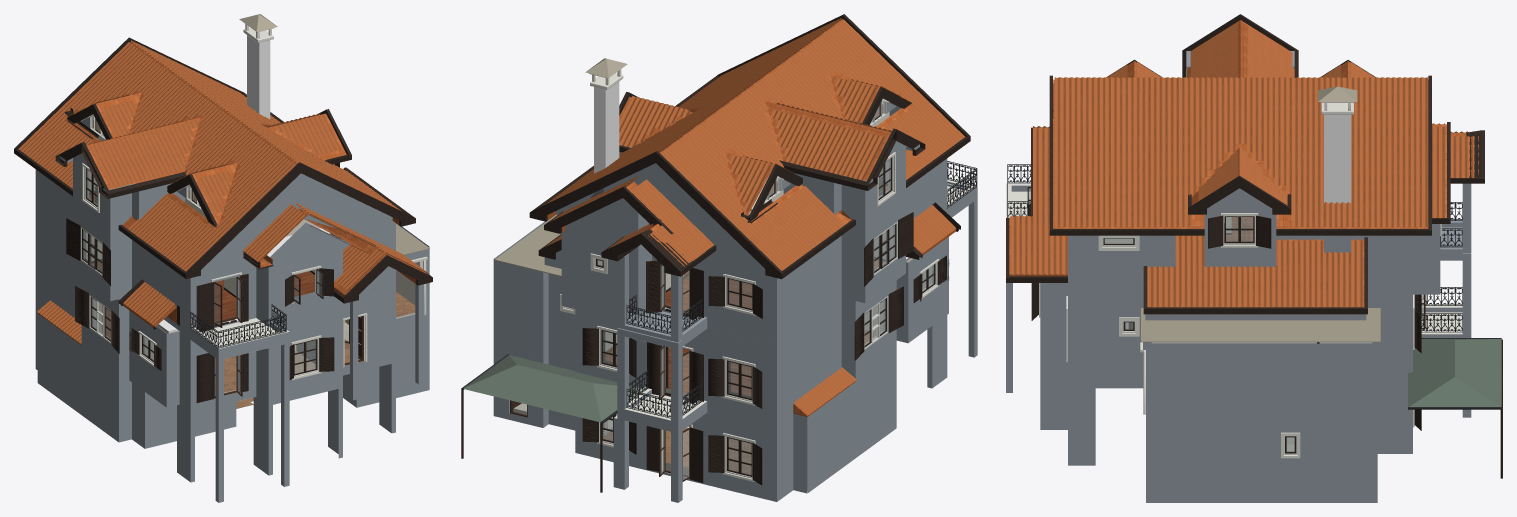
File: BUILDING-2-opt-v1.glb
3 renders of one model, left to right at view 1: azimuth 30°, elevation 25°; view 2: azimuth 150°, elevation 25°; view 3: azimuth 270°, elevation 25°, orthographic. The views are drawn at different scales.
Parts seen in each view (by area): view 1: stucco [imported], Clay tile 6 [imported], wood_dark (4), wood_dark.001, roof, white_trim (4), glass, ceiling [imported], interior.001, metal, terra_floor, wood_floor.001 (+3 smaller); view 2: stucco [imported], Clay tile 6 [imported], wood_dark.001, wood_dark (4), canopy, white_trim (4), roof, glass, metal, ceiling [imported], wood_floor.001, gravel [imported] (+4 smaller); view 3: stucco [imported], Clay tile 6 [imported], wood_dark (4), gravel [imported], canopy, roof, white_trim (4), ceiling [imported], wood_dark.001, metal, glass.
Boxes of the visible parts, x1,y1,x2,y2 form: stucco [imported]: (35, 117, 429, 502); Clay tile 6 [imported]: (18, 40, 428, 343); wood_dark (4): (14, 37, 432, 343); wood_dark.001: (65, 108, 349, 402); roof: (37, 42, 427, 345); white_trim (4): (80, 24, 427, 380); glass: (83, 116, 321, 373); ceiling [imported]: (93, 35, 330, 332); interior.001: (86, 115, 422, 401); metal: (190, 304, 286, 348); terra_floor: (215, 291, 415, 408); wood_floor.001: (89, 120, 314, 338); stucco [imported]: (493, 101, 977, 502); Clay tile 6 [imported]: (544, 17, 965, 414); wood_dark.001: (567, 103, 949, 485); wood_dark (4): (461, 14, 970, 492); canopy: (463, 355, 641, 422); white_trim (4): (560, 69, 977, 481); roof: (547, 19, 955, 416); glass: (597, 100, 933, 474); metal: (626, 161, 977, 418); ceiling [imported]: (594, 81, 908, 309); wood_floor.001: (605, 105, 887, 395); gravel [imported]: (495, 58, 608, 276); stucco [imported]: (1006, 51, 1471, 502); Clay tile 6 [imported]: (1010, 22, 1478, 307); wood_dark (4): (1006, 14, 1502, 478); gravel [imported]: (1140, 86, 1380, 342); canopy: (1408, 339, 1501, 406); roof: (1009, 20, 1466, 307); white_trim (4): (1006, 102, 1462, 458); ceiling [imported]: (1151, 114, 1372, 343); wood_dark.001: (1027, 187, 1421, 453); metal: (1007, 164, 1462, 332); glass: (1028, 188, 1294, 451).
Bounding box in the file's own units: 14.28 × 14.92 × 18.02.
30 materials, 21 textured.
